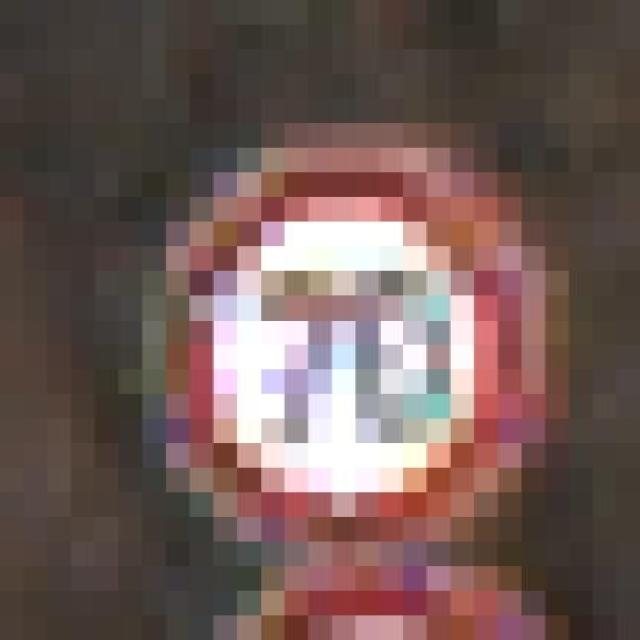forb_speed_over_70: (199, 160, 501, 522)
